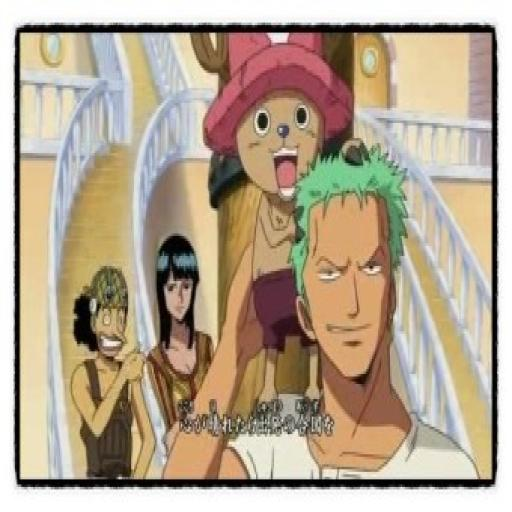NicoRobin: (154, 226, 206, 353)
Usopp: (71, 264, 132, 364)
Zoro: (295, 145, 411, 380)
